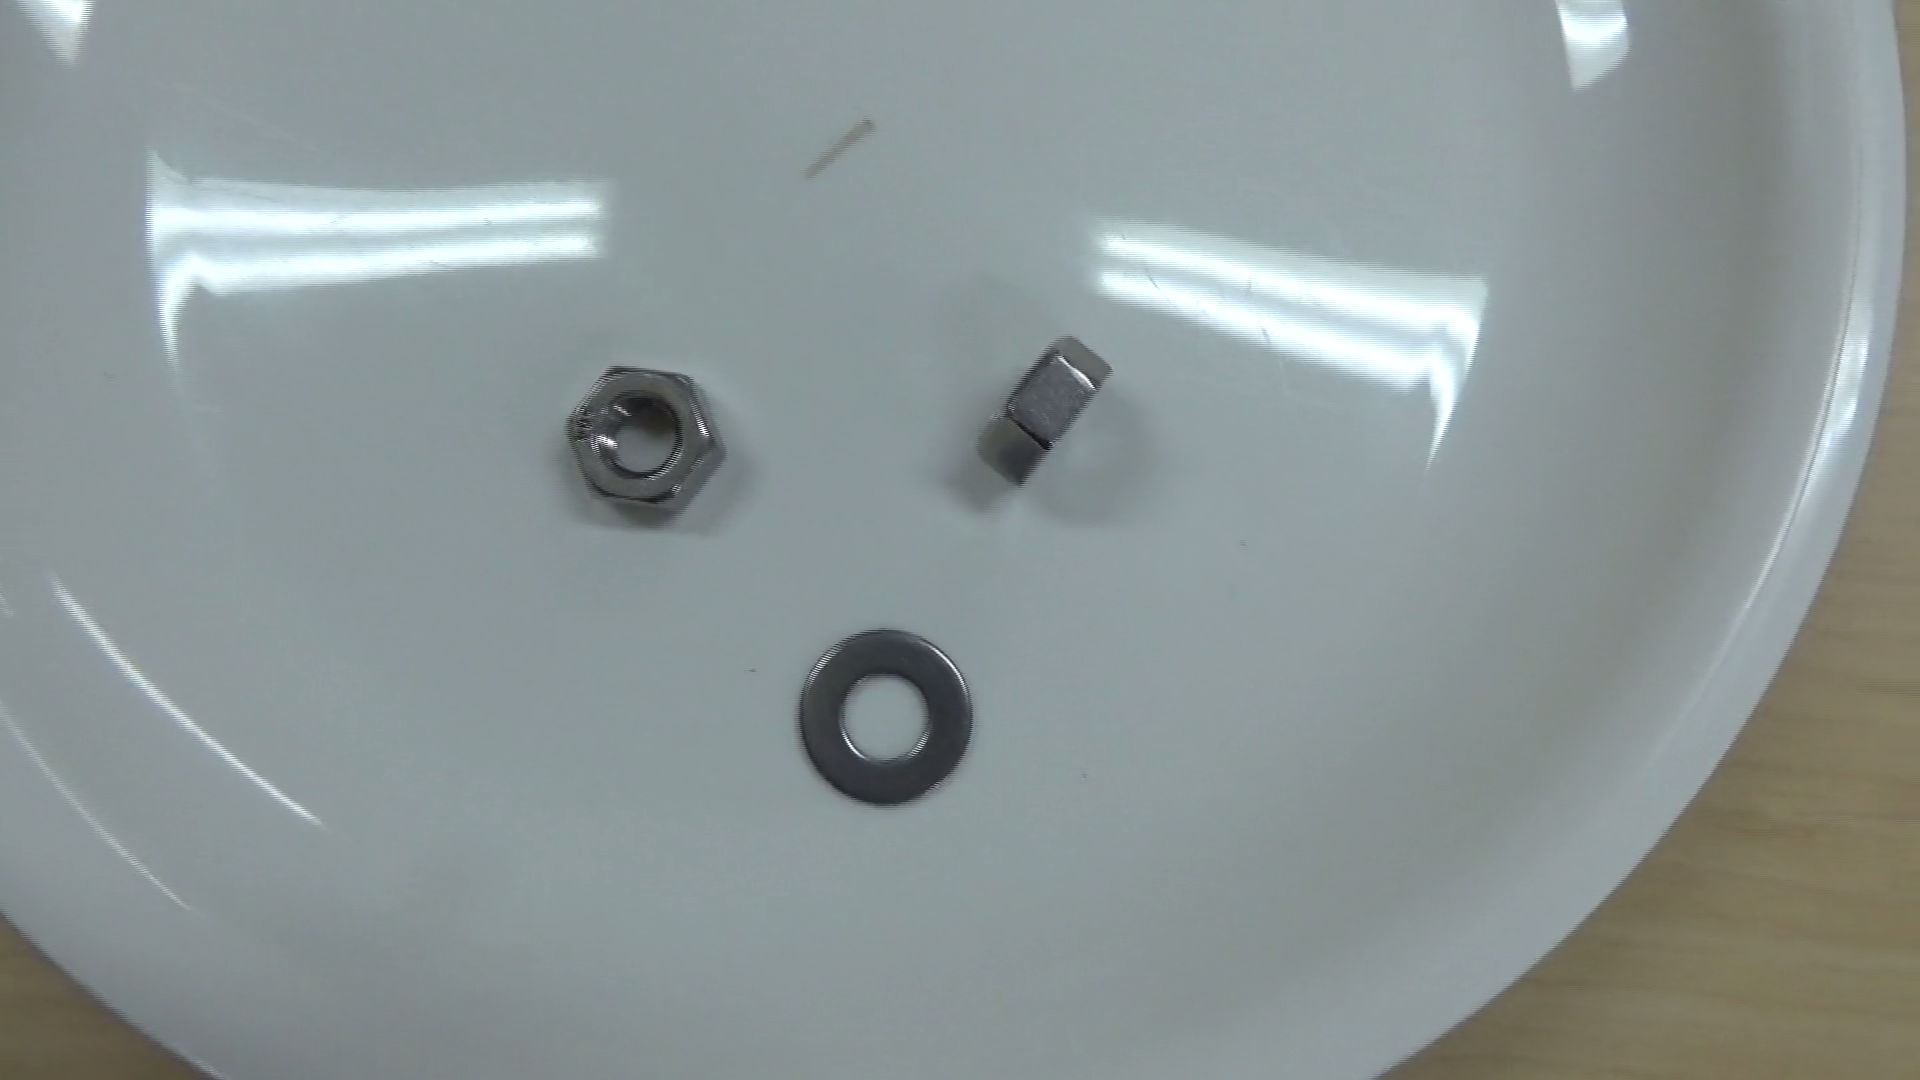nut: (550, 343, 737, 529), (960, 313, 1127, 500)
washer: (782, 612, 986, 814)
